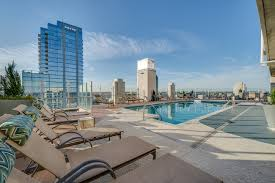Sky Building: (33, 22, 88, 103), (136, 55, 158, 102), (111, 78, 127, 99), (166, 80, 176, 99)
